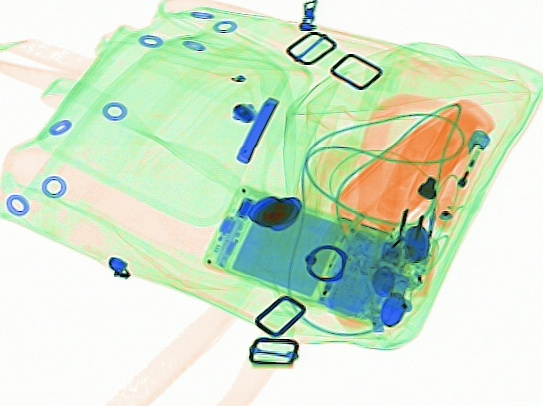lighter: (430, 129, 490, 229)
